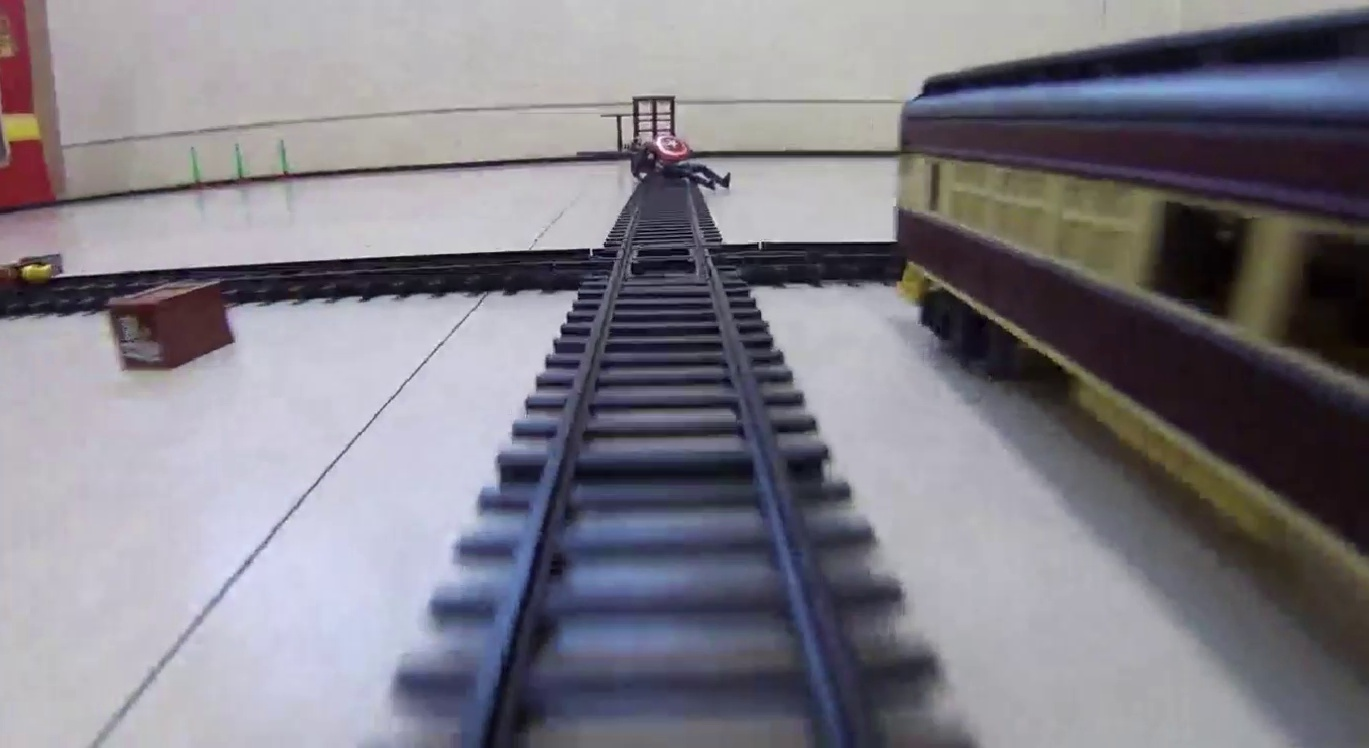box: (114, 284, 223, 363)
people: (621, 135, 732, 192)
